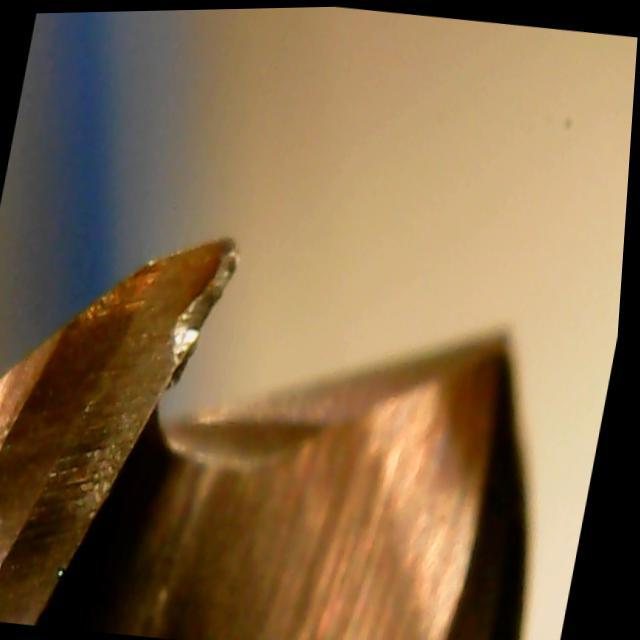Tool-wear-class-1: (71, 208, 278, 501)
